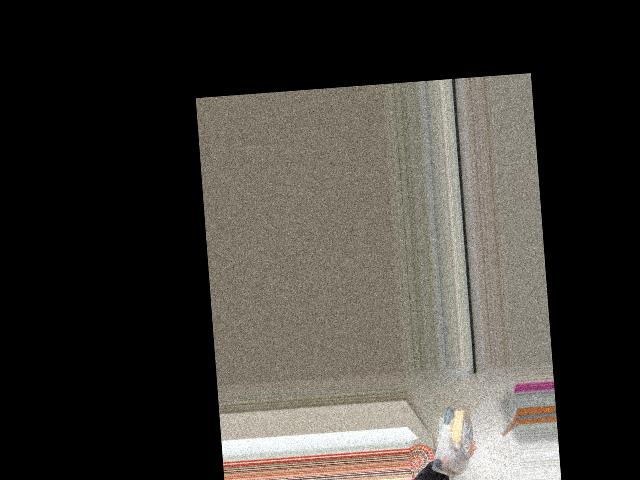cheese: (422, 403, 475, 476)
